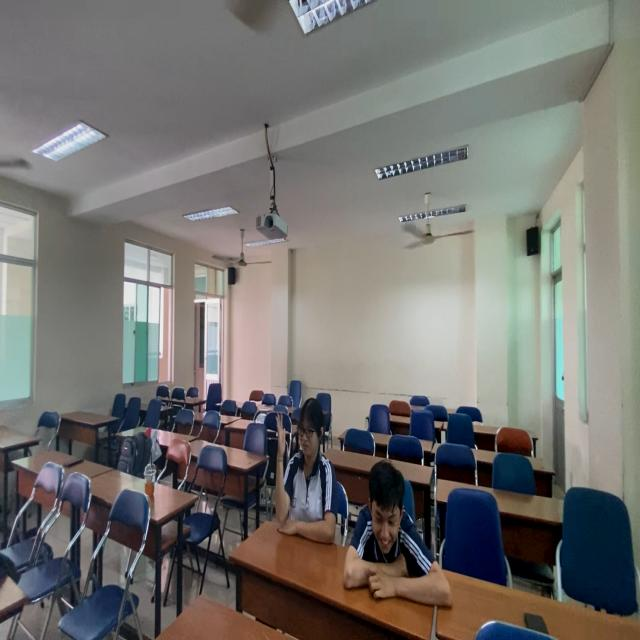raise_hand: (274, 391, 341, 543)
